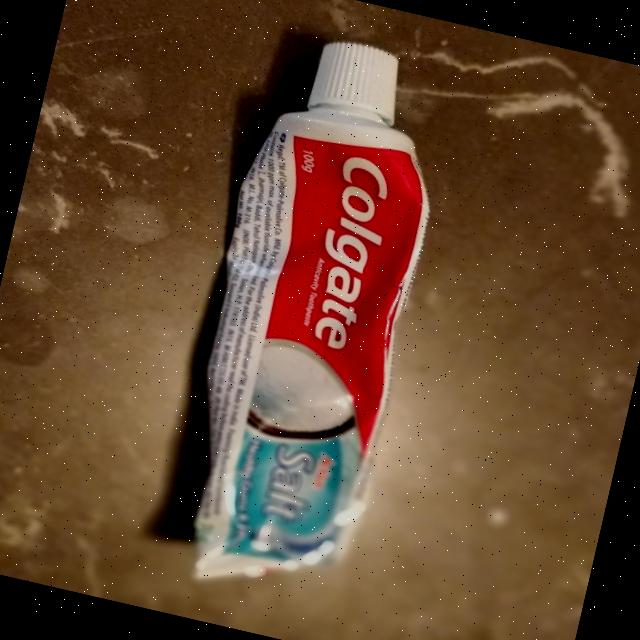Toothpaste: (145, 22, 480, 621)
